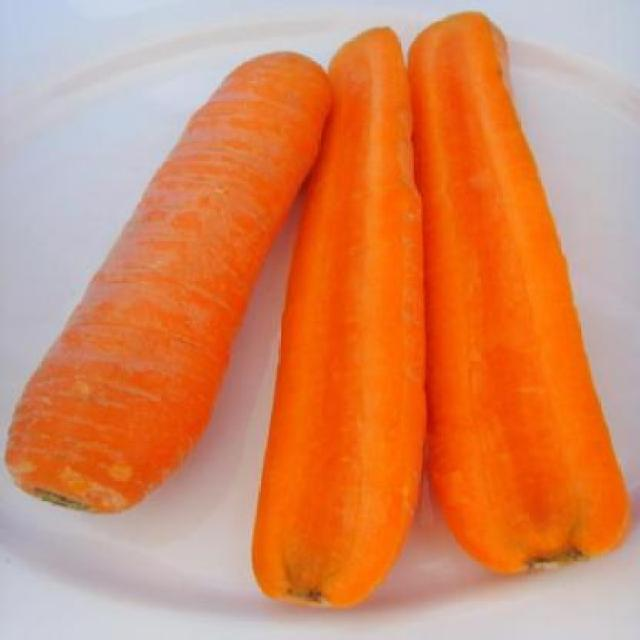carrot: (2, 43, 345, 519), (418, 11, 632, 571), (253, 20, 425, 614)
